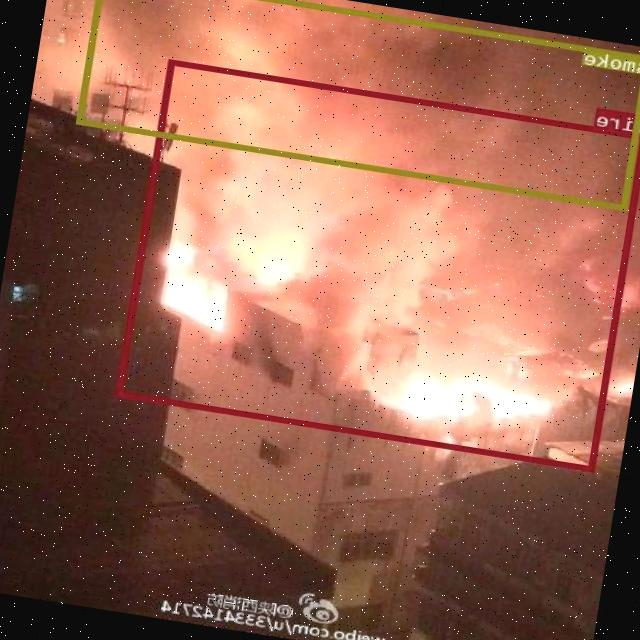fire: (117, 58, 640, 471)
smoke: (77, 0, 640, 210)
